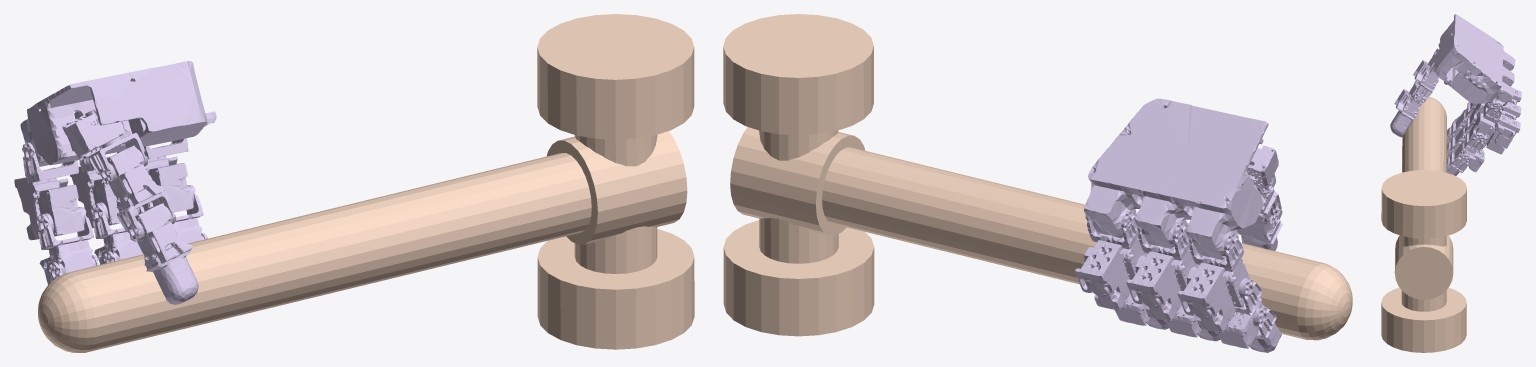
File: b78bc2699ba149-closed.glb
The picture shows the model from 3 angles, left to right: view 1: azimuth 30°, elevation 25°; view 2: azimuth 150°, elevation 25°; view 3: azimuth 270°, elevation 25°; orthographic projection. The views are drawn at different scales.
Parts seen in each view (by area): view 1: world, LEAP_hand; view 2: world, LEAP_hand; view 3: world, LEAP_hand.
Boxes of the visible parts, x1=… form: world: x1=38, y1=14, x2=694, y2=352; LEAP_hand: x1=14, y1=61, x2=216, y2=304; world: x1=723, y1=14, x2=1352, y2=340; LEAP_hand: x1=1074, y1=98, x2=1282, y2=352; world: x1=1381, y1=97, x2=1466, y2=352; LEAP_hand: x1=1390, y1=14, x2=1521, y2=175.
Bounding box in the file's own units: 0.537 × 0.2706 × 0.1875.
